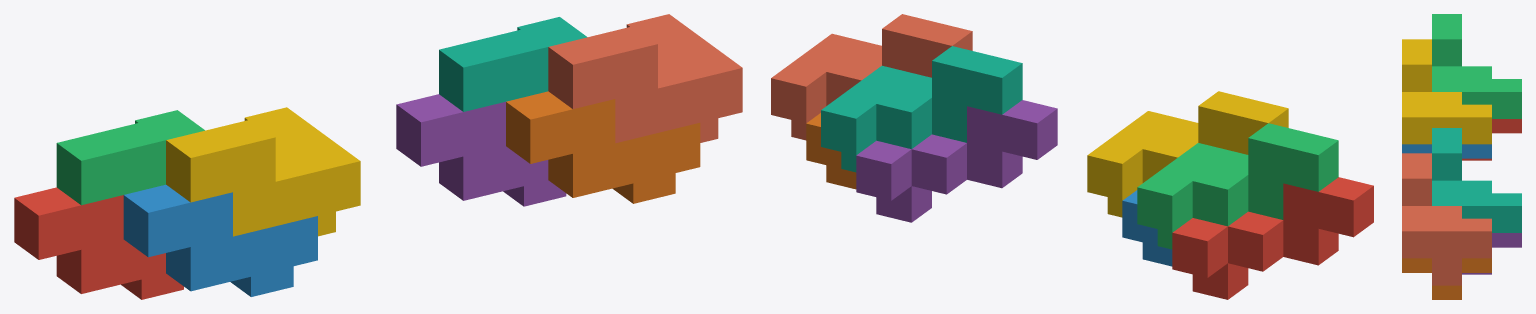
Rendered from tiling.obj.
The picture shows the model from 3 angles, left to right: view 1: azimuth 30°, elevation 25°; view 2: azimuth 150°, elevation 25°; view 3: azimuth 270°, elevation 25°; orthographic projection. The views are drawn at different scales.
Visible parts, largest first — view 1: copy_1_domain_8, copy_1_domain_4, copy_1_domain_6, copy_1_domain_2, copy_1_domain_1, copy_1_domain_5, copy_1_domain_7, copy_1_domain_3; view 2: copy_1_domain_3, copy_1_domain_7, copy_1_domain_1, copy_1_domain_5, copy_1_domain_4, copy_1_domain_8, copy_1_domain_2, copy_1_domain_6; view 3: copy_1_domain_8, copy_1_domain_4, copy_1_domain_3, copy_1_domain_7, copy_1_domain_6, copy_1_domain_2, copy_1_domain_1, copy_1_domain_5.
Boxes of the visible parts, x1,y1,x2,y2 form: copy_1_domain_8: (548,14,742,143); copy_1_domain_4: (166,107,360,236); copy_1_domain_6: (506,91,700,203); copy_1_domain_2: (123,184,317,296); copy_1_domain_1: (14,187,183,299); copy_1_domain_5: (396,94,566,206); copy_1_domain_7: (439,17,587,111); copy_1_domain_3: (56,110,204,205); copy_1_domain_3: (1137,123,1338,249); copy_1_domain_7: (821,46,1022,172); copy_1_domain_1: (1172,177,1373,299); copy_1_domain_5: (856,100,1057,222); copy_1_domain_4: (1087,91,1288,217); copy_1_domain_8: (771,14,972,140); copy_1_domain_2: (1122,190,1172,266); copy_1_domain_6: (806,113,856,189); copy_1_domain_8: (1402,153,1491,285); copy_1_domain_4: (1402,39,1491,144); copy_1_domain_3: (1432,14,1521,118); copy_1_domain_7: (1432,128,1521,232); copy_1_domain_6: (1402,258,1491,299); copy_1_domain_2: (1402,144,1491,158); copy_1_domain_1: (1462,119,1521,160); copy_1_domain_5: (1462,233,1521,274).
Bounding box in the file's own units: 16 × 4 × 4.
